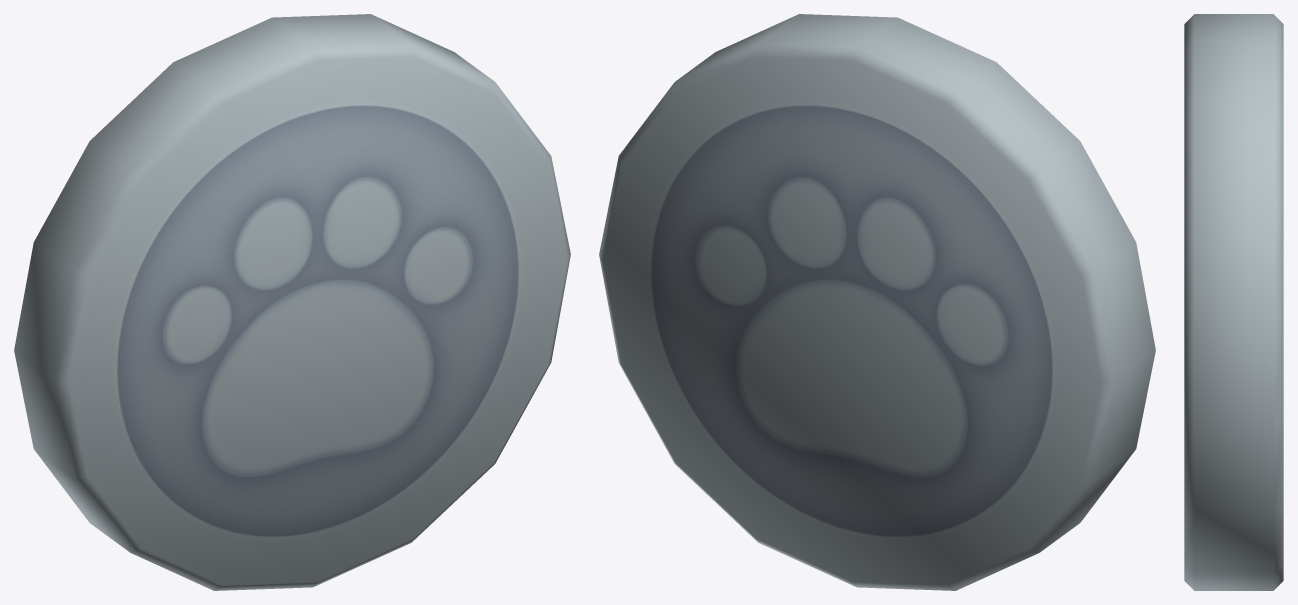
File: Coin_Pet_Silver.FBX
The picture shows the model from 3 angles, left to right: view 1: azimuth 30°, elevation 25°; view 2: azimuth 150°, elevation 25°; view 3: azimuth 270°, elevation 25°; orthographic projection. The views are drawn at different scales.
Parts seen in each view (by area): view 1: Coin_Pet_Silver; view 2: Coin_Pet_Silver; view 3: Coin_Pet_Silver.
Boxes of the visible parts, x1,y1,x2,y2 form: Coin_Pet_Silver: (14,14,570,590); Coin_Pet_Silver: (599,14,1155,590); Coin_Pet_Silver: (1184,14,1283,590).
Bounding box in the file's own units: 70 × 70 × 12.
1 material, 1 textured.
